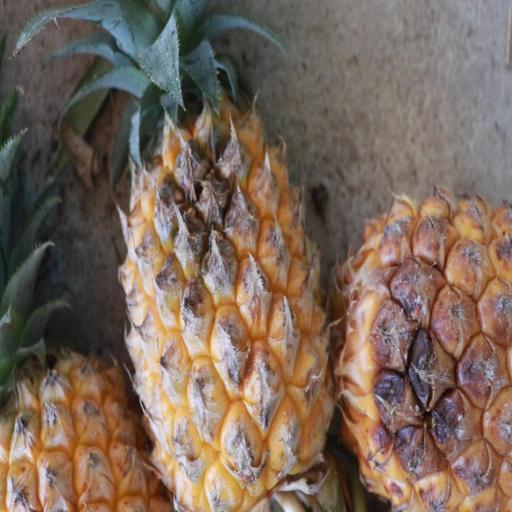Pineapple - v8 v1: (114, 4, 339, 512), (329, 191, 512, 512)
